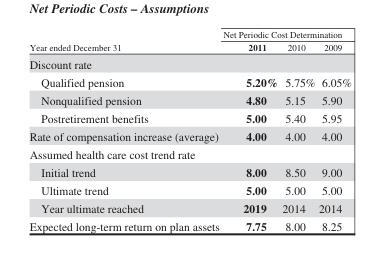table: (28, 28, 350, 233)
table column: (28, 28, 220, 233), (220, 28, 279, 233), (279, 28, 316, 233), (316, 28, 350, 233)
table column header: (28, 28, 350, 54)
table projected row header: (28, 54, 350, 72), (28, 145, 350, 163)
table row: (28, 126, 350, 145), (28, 54, 350, 72), (28, 72, 350, 90), (28, 90, 350, 108), (28, 108, 350, 126), (28, 145, 350, 163), (28, 163, 350, 181), (28, 181, 350, 199), (28, 199, 350, 217), (28, 217, 350, 233), (28, 39, 350, 54), (28, 28, 350, 39)
table spanning cell: (28, 28, 220, 54), (220, 28, 350, 39)
